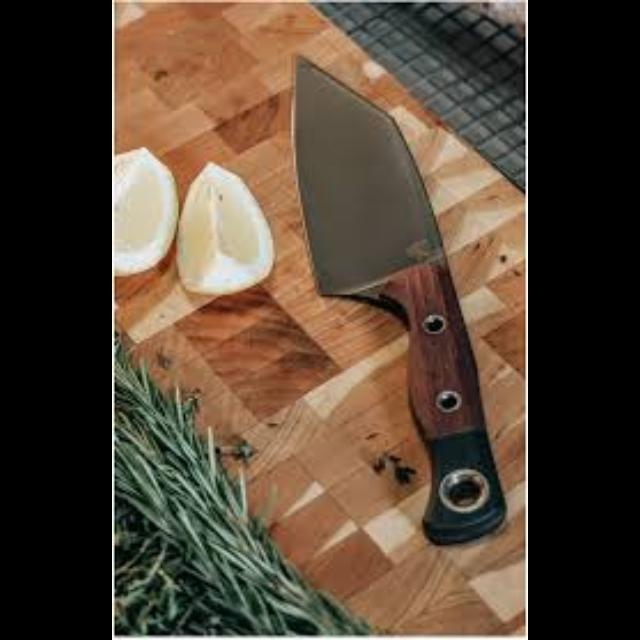knife: (290, 51, 508, 543)
